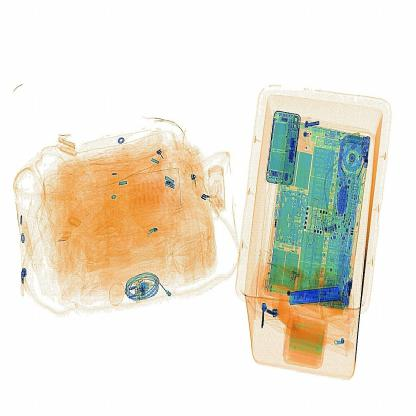pliers: (287, 282, 352, 311)
